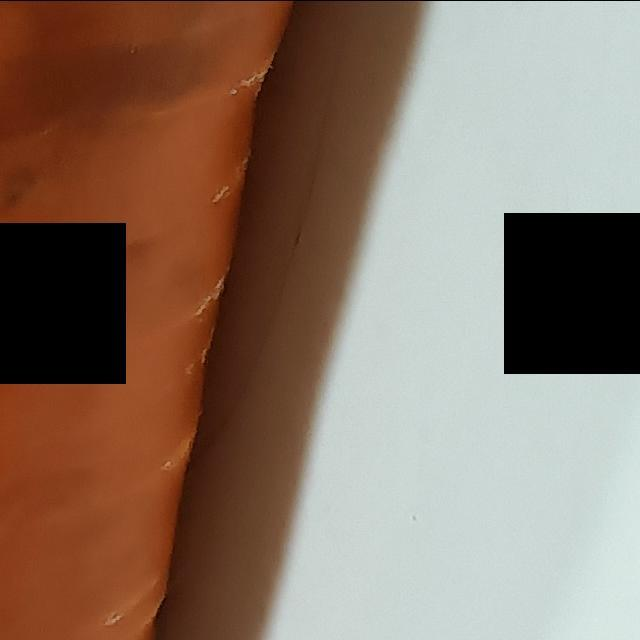carrot: (1, 1, 351, 640)
